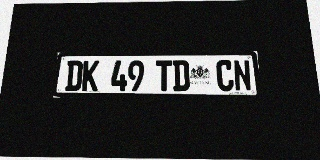4: (111, 60, 128, 91)
9: (127, 60, 144, 91)
C: (216, 60, 234, 91)
D: (65, 61, 83, 91), (173, 60, 190, 91)
K: (81, 60, 99, 91)
N: (233, 60, 252, 91)
T: (156, 60, 172, 91)
